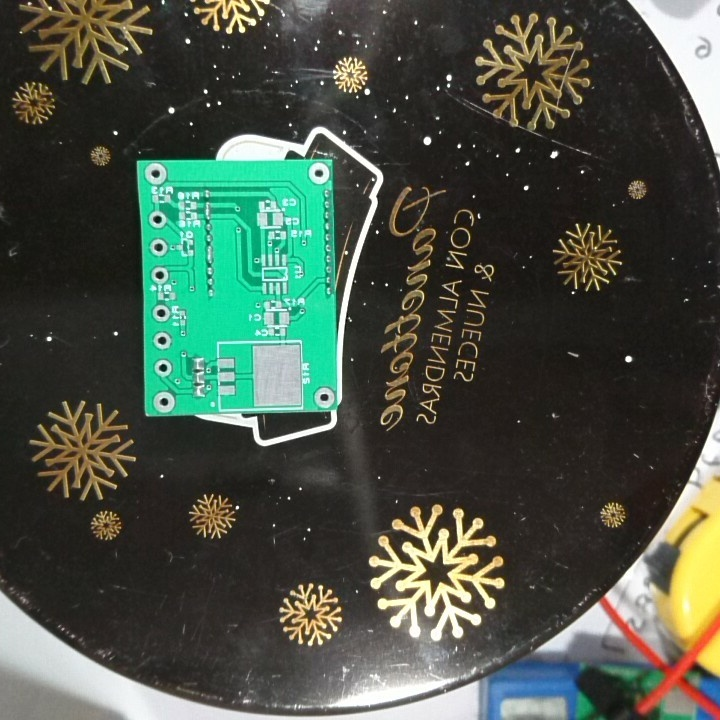F: (306, 160, 331, 187), (142, 162, 168, 186), (151, 388, 177, 412), (312, 385, 336, 410), (147, 209, 167, 230), (147, 237, 168, 257), (152, 358, 172, 378), (150, 265, 170, 284), (150, 304, 169, 323), (152, 331, 172, 349)
P: (204, 243, 216, 266), (202, 201, 214, 221)
